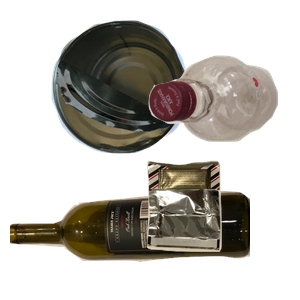glass: (10, 189, 250, 300)
metal: (49, 18, 229, 164)
plastic: (146, 53, 300, 187)
trash: (144, 158, 300, 300)
